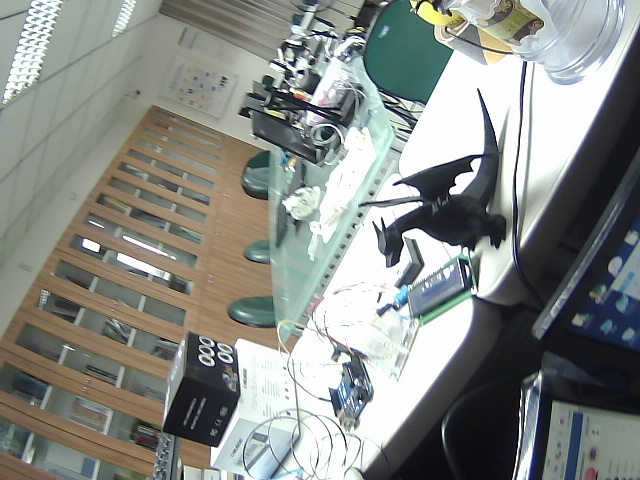charizard: (338, 82, 551, 293)
